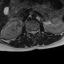CCS_normal: (32, 28, 34, 38)
LFS_normal: (36, 28, 38, 34)
LLS_normal: (34, 28, 36, 36)
RFS_normal: (28, 28, 30, 34)
RLS_normal: (30, 28, 32, 35)
